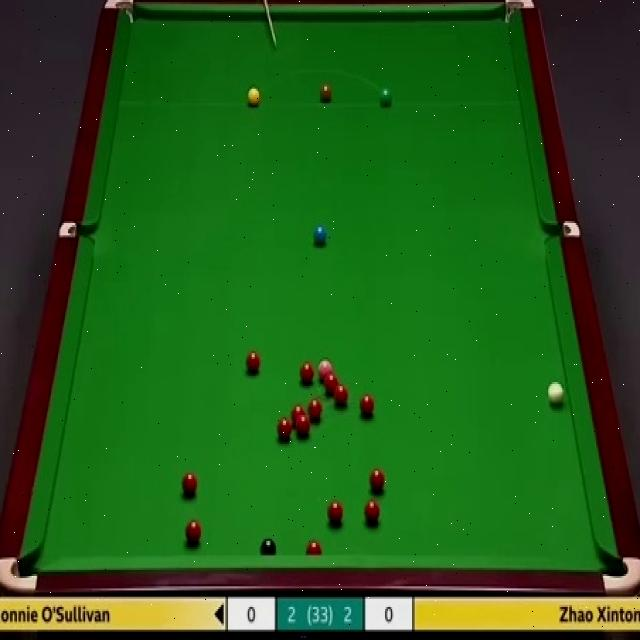black-ball: (260, 539, 278, 555)
blue-ball: (313, 226, 327, 243)
brown-ball: (320, 84, 332, 103)
green-ball: (378, 85, 393, 108)
pink-ball: (318, 359, 333, 380)
red-ball: (368, 468, 386, 494), (328, 499, 344, 527), (180, 472, 199, 494), (185, 522, 202, 546), (364, 500, 380, 525), (297, 363, 315, 385), (245, 348, 261, 372), (360, 393, 376, 417), (277, 416, 292, 441), (306, 398, 323, 420), (332, 383, 348, 406), (324, 372, 338, 391), (292, 405, 305, 425), (297, 415, 310, 435), (305, 541, 324, 554)
white-ball: (547, 380, 564, 407)
yellow-ball: (247, 86, 260, 108)
